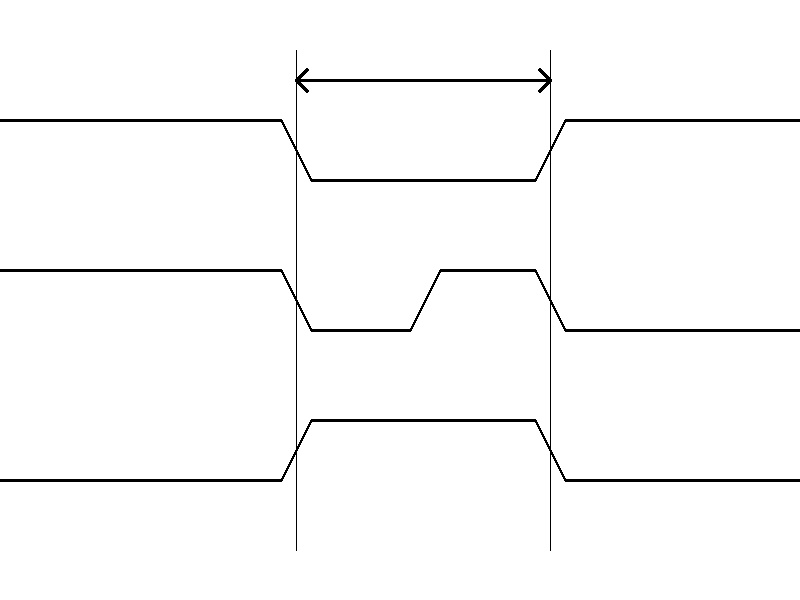double_arrow: (296, 65, 550, 95)
